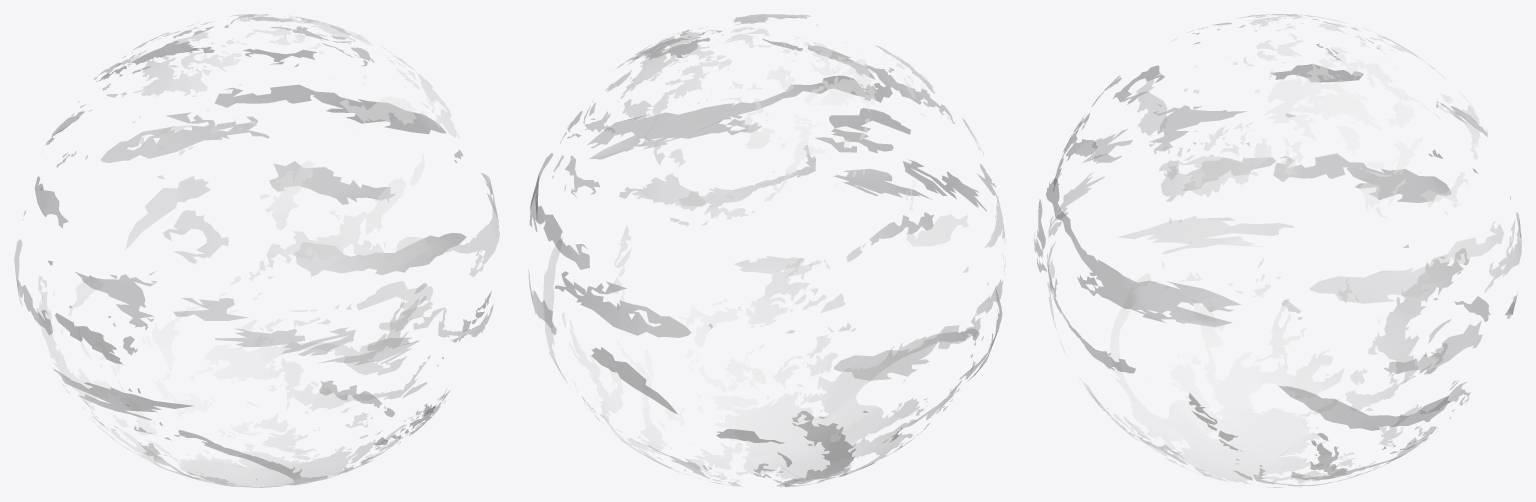
The model's file is clouds.gltf.
The picture shows the model from 3 angles, left to right: view 1: azimuth 30°, elevation 25°; view 2: azimuth 150°, elevation 25°; view 3: azimuth 270°, elevation 25°; orthographic projection.
Parts seen in each view (by area): view 1: cloud; view 2: cloud; view 3: cloud.
Boxes of the visible parts, x1,y1,x2,y2 form: cloud: [14, 14, 499, 487]; cloud: [528, 14, 1005, 487]; cloud: [1034, 14, 1521, 487].
Size of the model in its own units: 0.7921 by 0.7709 by 0.7998.
Materials: 1 (1 with a texture image).
